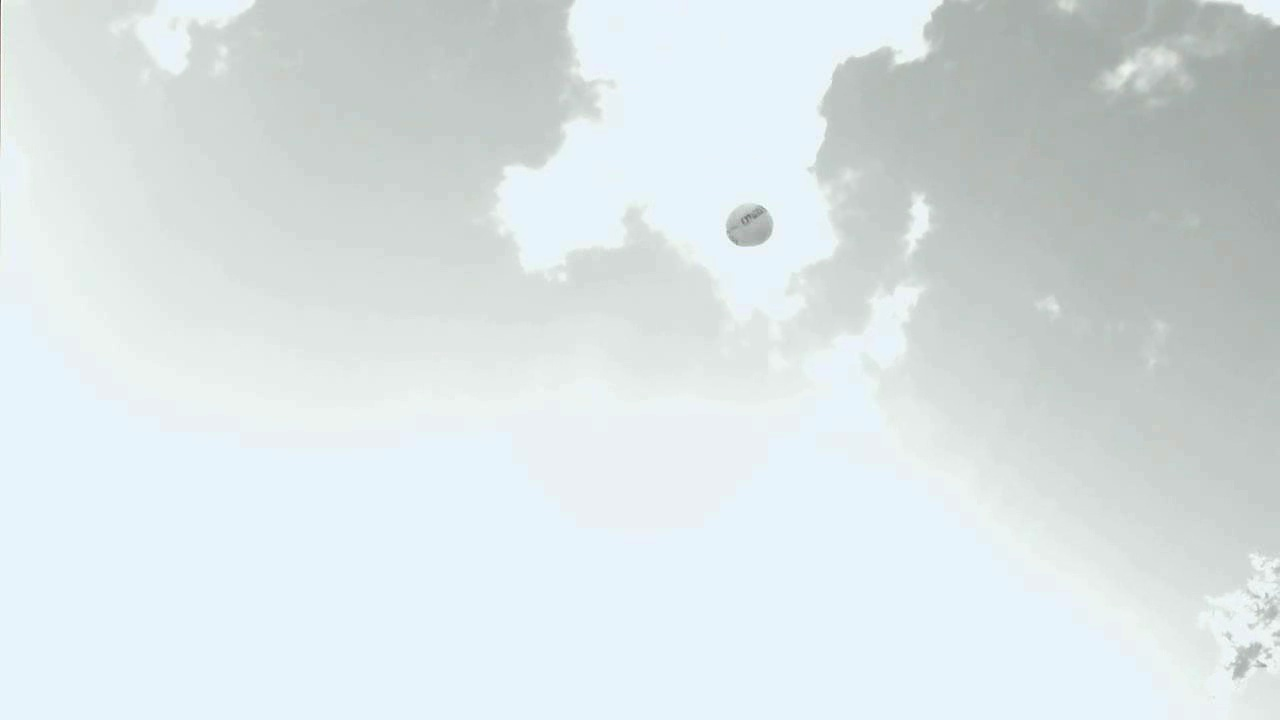Football-Spotter: (726, 205, 771, 245)
